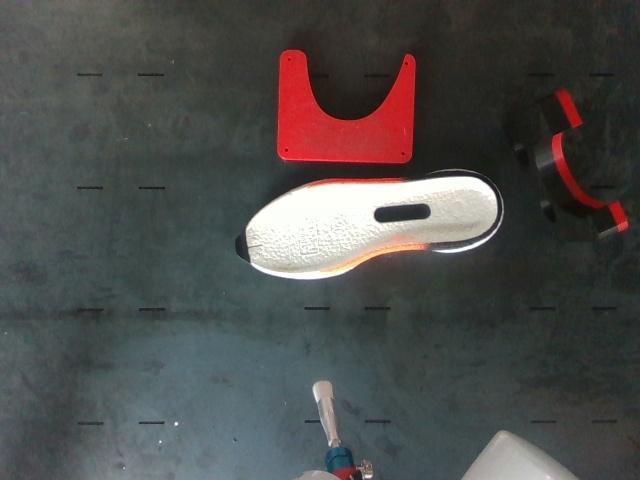shoes: (236, 175, 499, 272)
